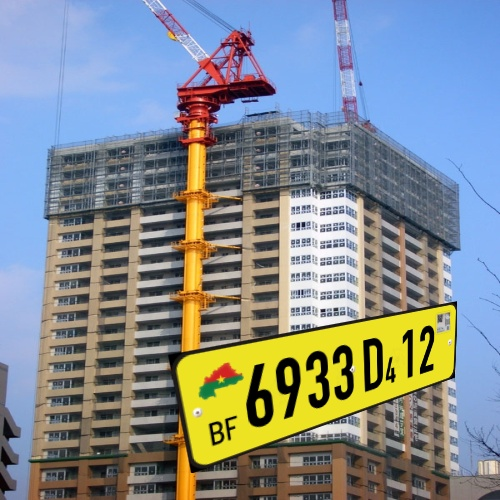plate: (160, 292, 466, 490)
